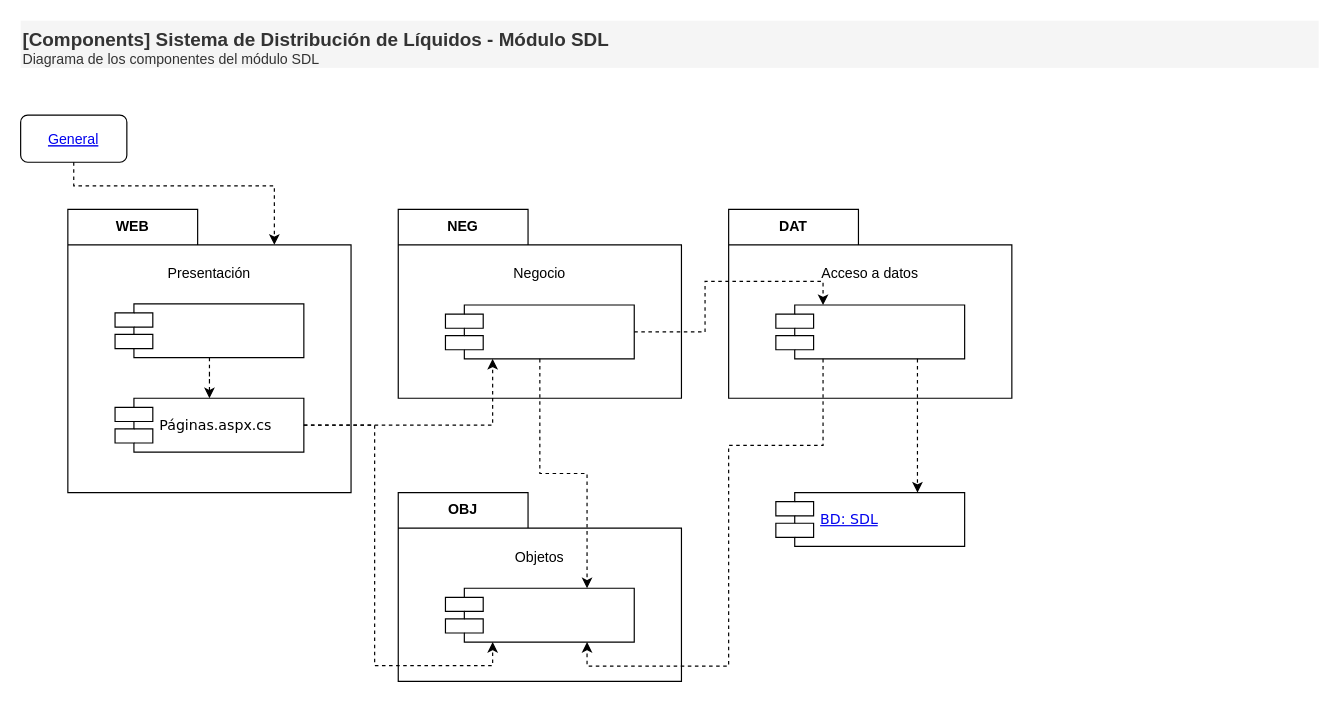
This 1339x702 diagram has some shape labels left out. The centre of each missing label's shape, as x and y in pixels:
"Clases.cs" belongs at (539,614).
"ClasesB.cs" belongs at (539,331).
"ClasesDA.cs" belongs at (870,331).
"Páginas.aspx" belongs at (209,330).
